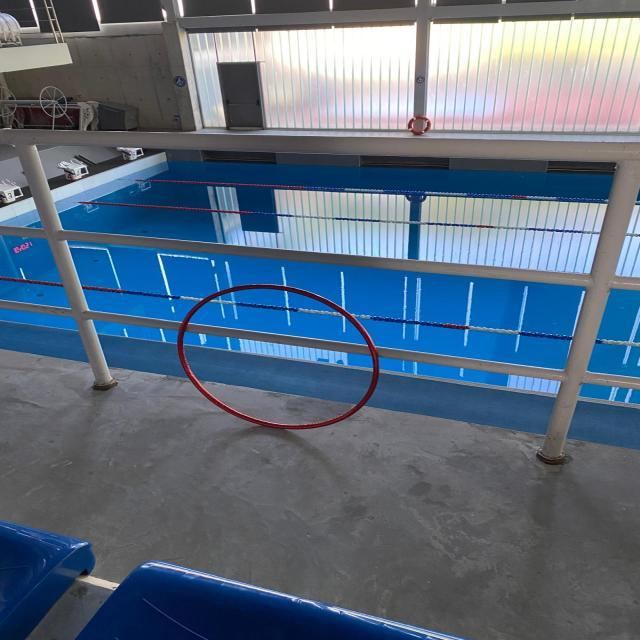Circle: (176, 284, 381, 431)
